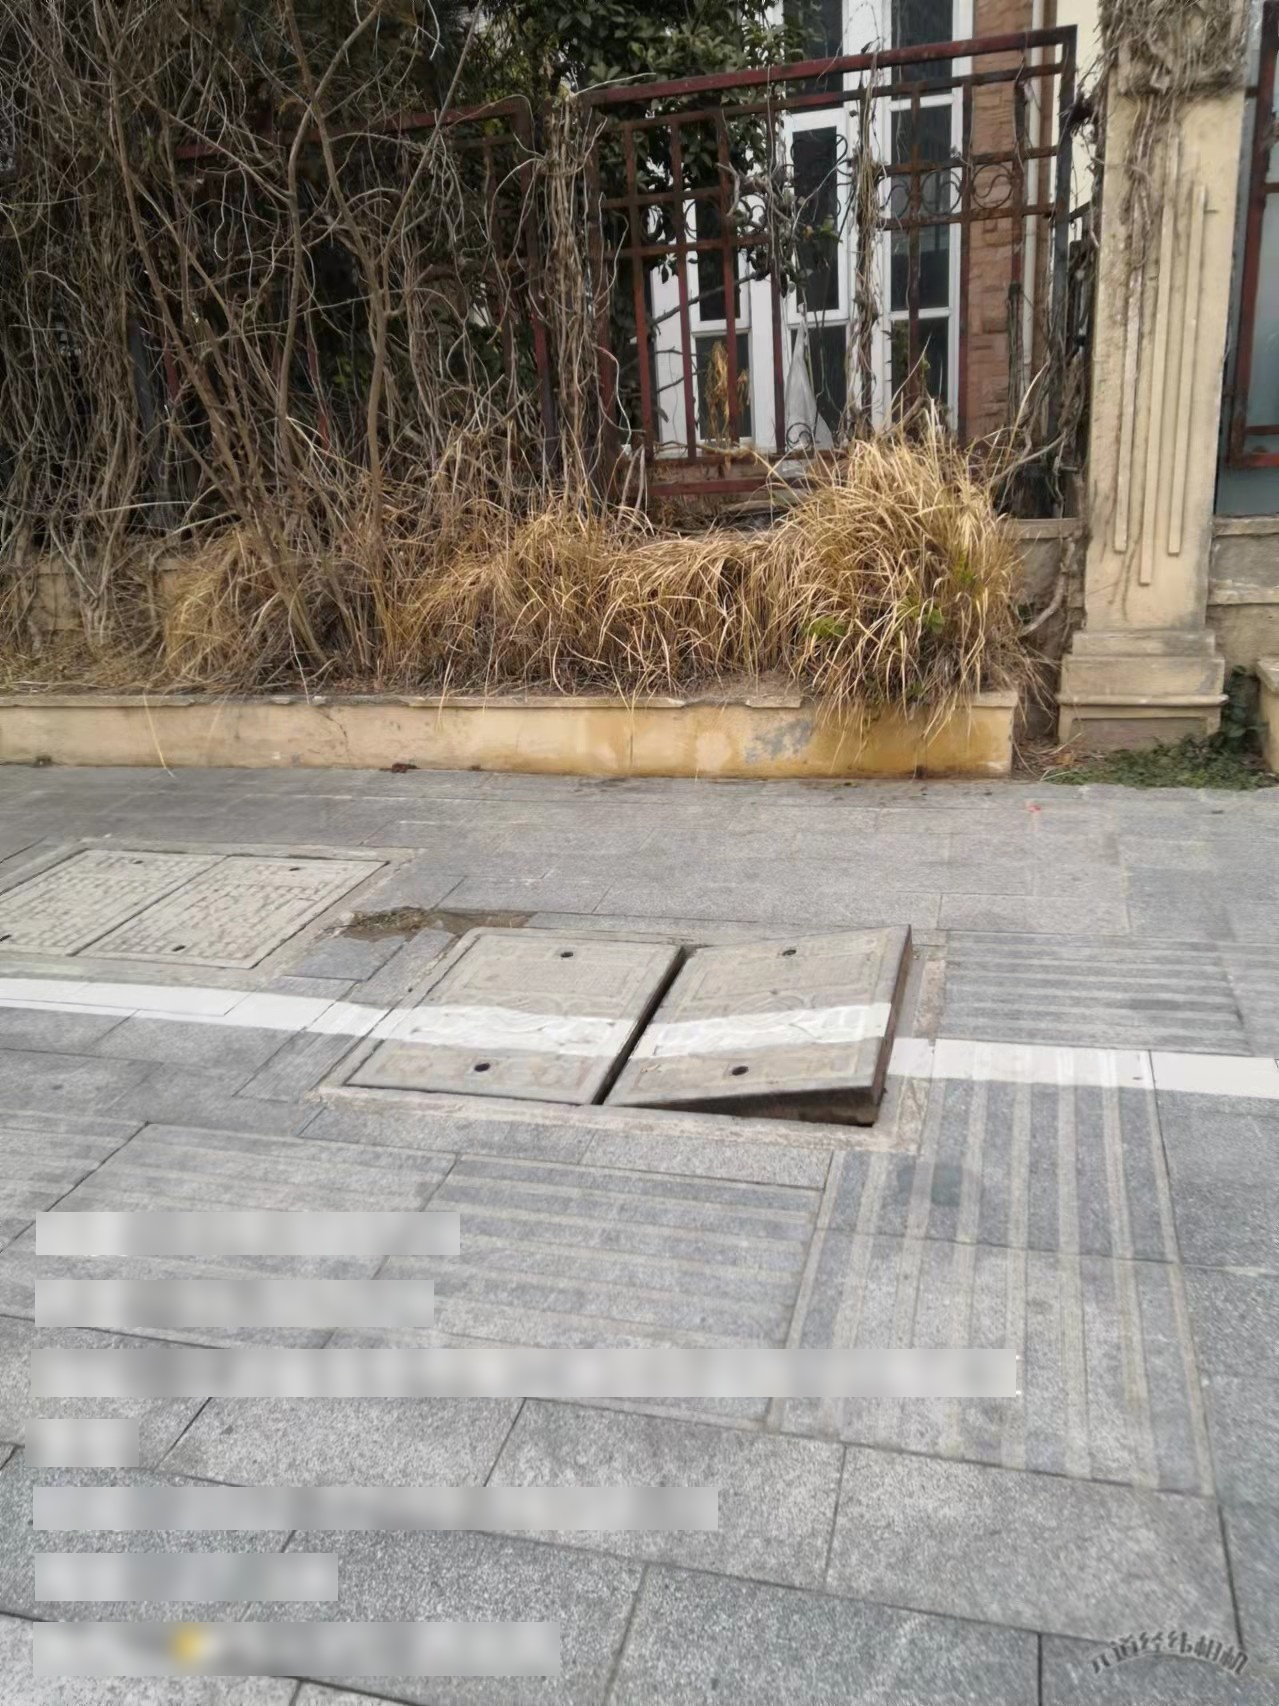good: (1, 840, 395, 985)
uncovered: (318, 920, 944, 1153)
